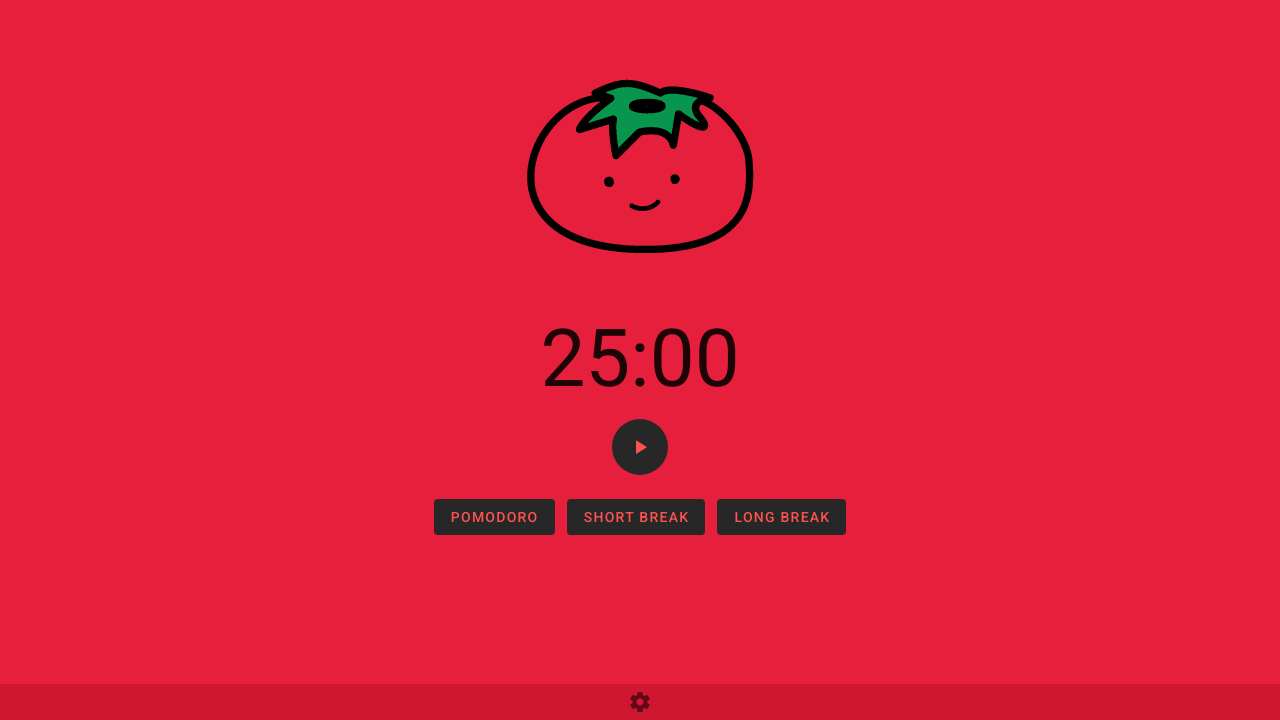
Test: Timer › should be able to change the session length
This screenshot has width=1280, height=720.
Expected: the text "25:00" is shown, [540,312,740,406]
Click the button "Short break" at point(637, 517), box [567,499,706,535]
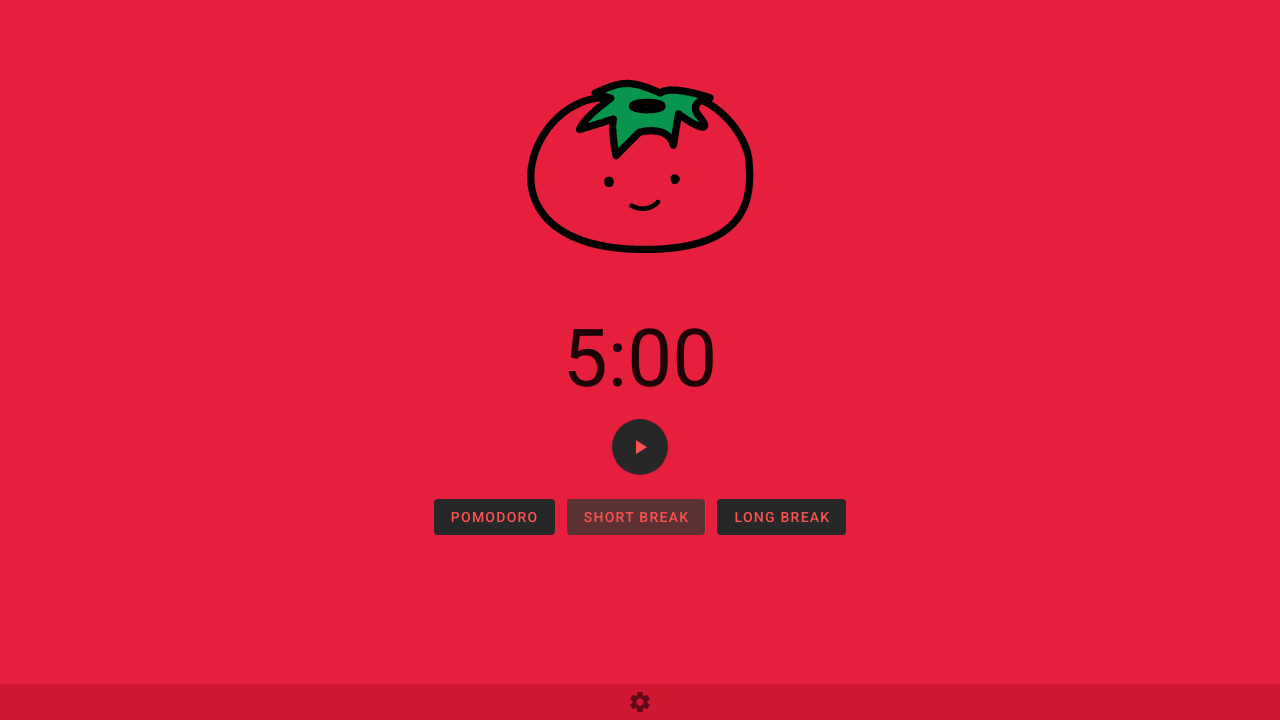
Expected: the text "5:00" is shown, [563,312,717,406]
Click the button "Long break" at point(782, 517), box [717,499,846,535]
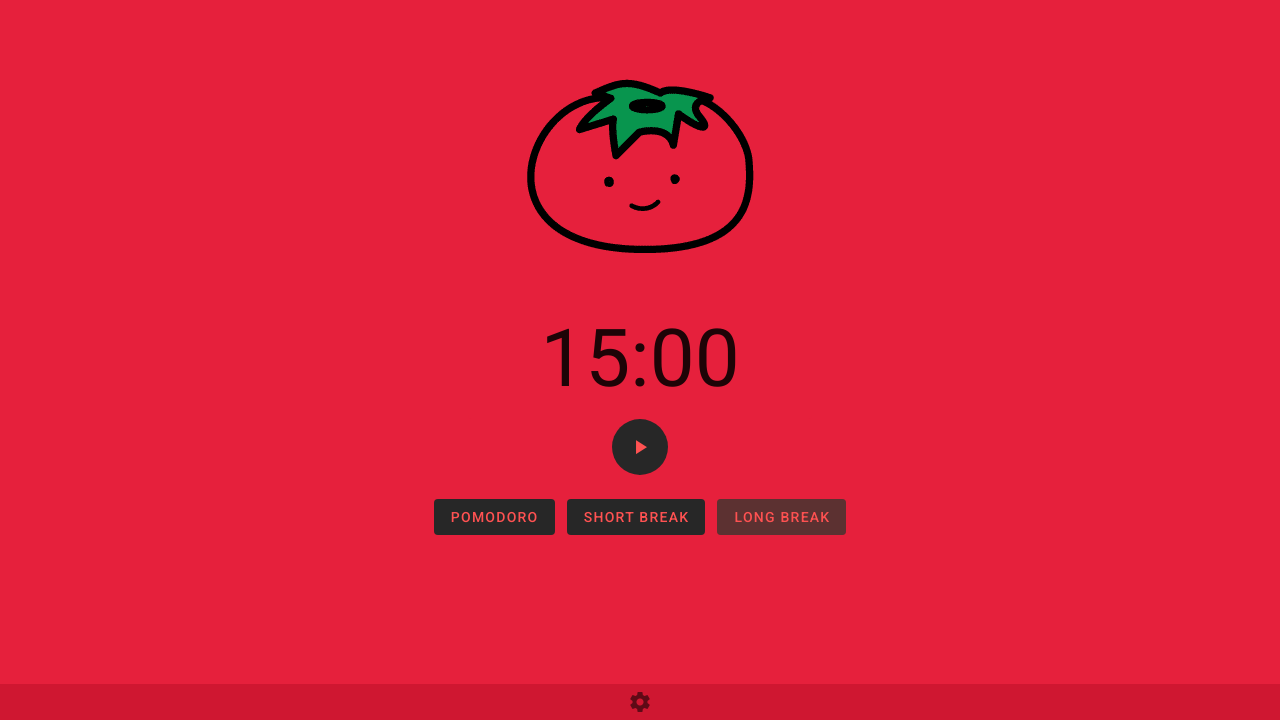
Expected: the text "15:00" is shown, [540,312,740,406]
Click the button "Pomodoro" at point(495, 517), box [434,499,555,535]
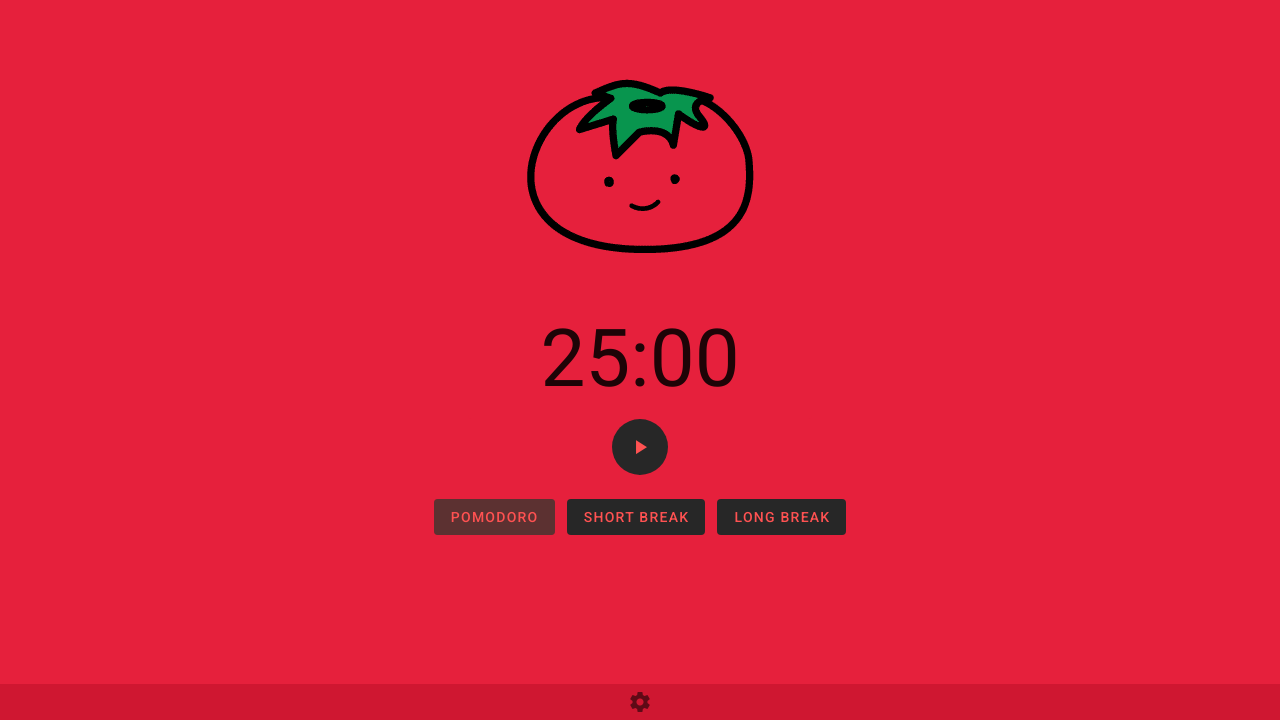
Expected: the text "25:00" is shown, [540,312,740,406]
